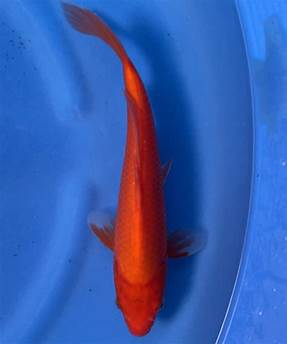red: (60, 2, 203, 337)
